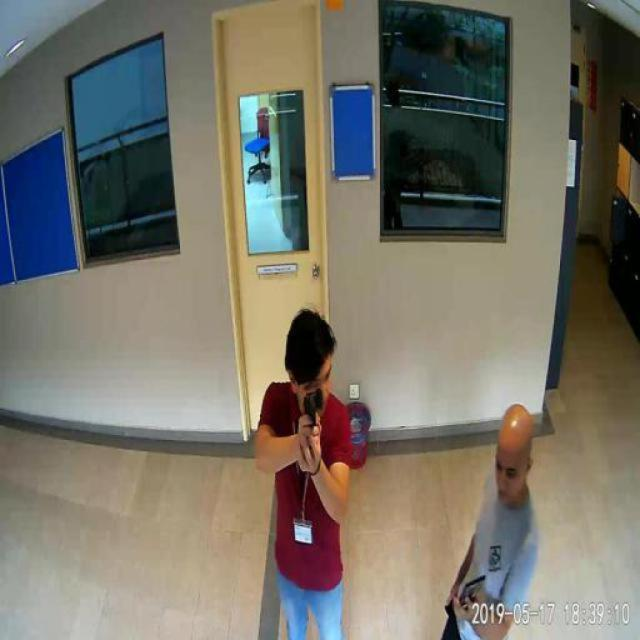pistol: (300, 386, 321, 452)
